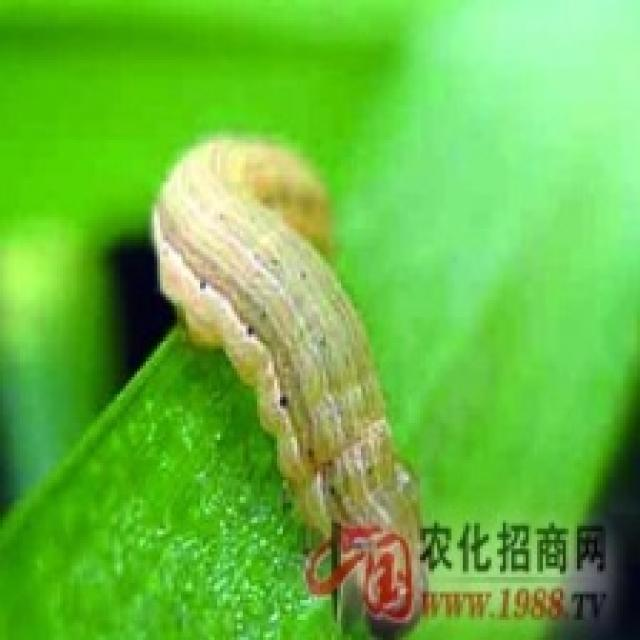armyworm: (135, 121, 450, 638)
